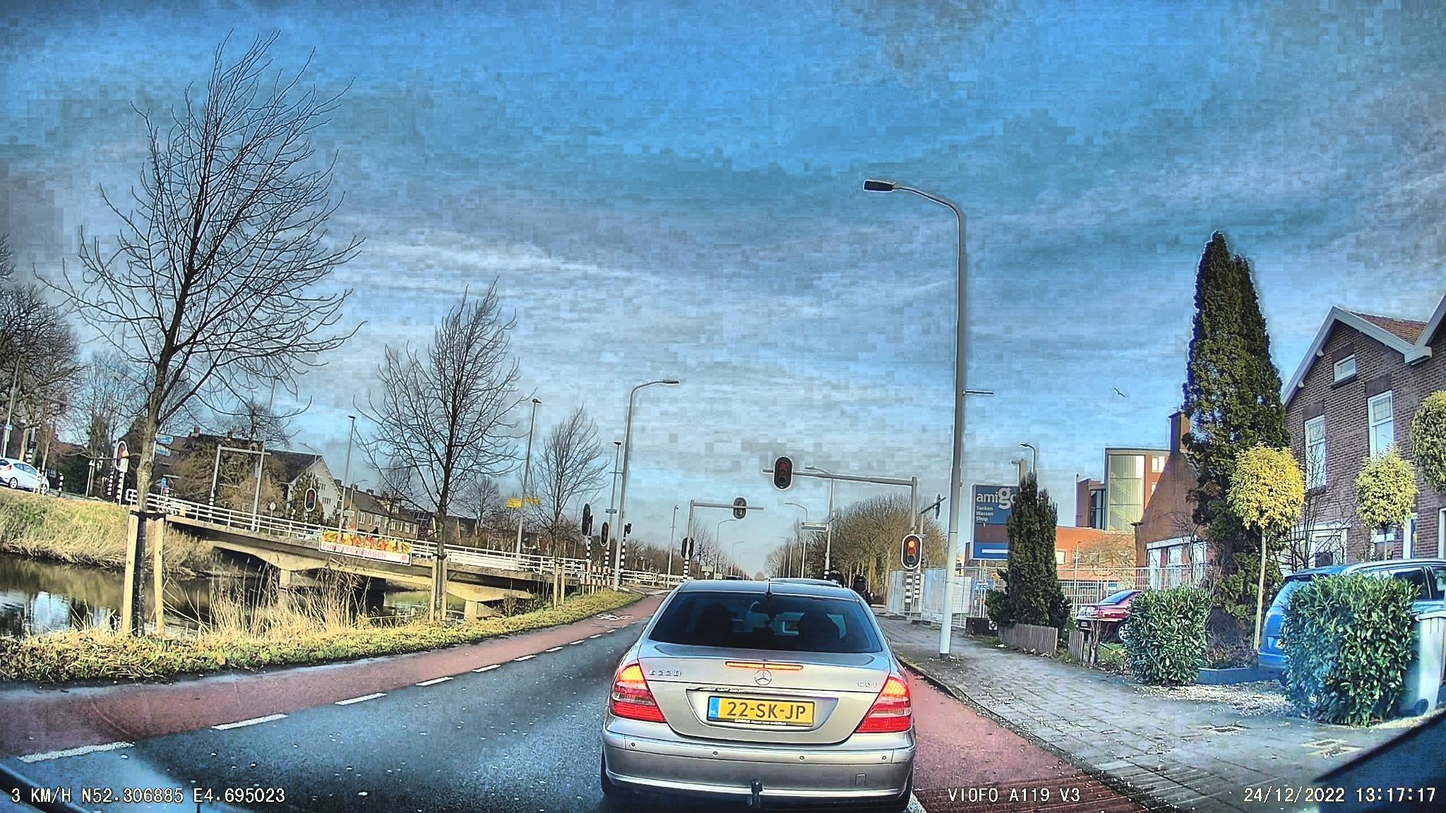Roads: (0, 599, 661, 813), (884, 662, 1110, 813)
